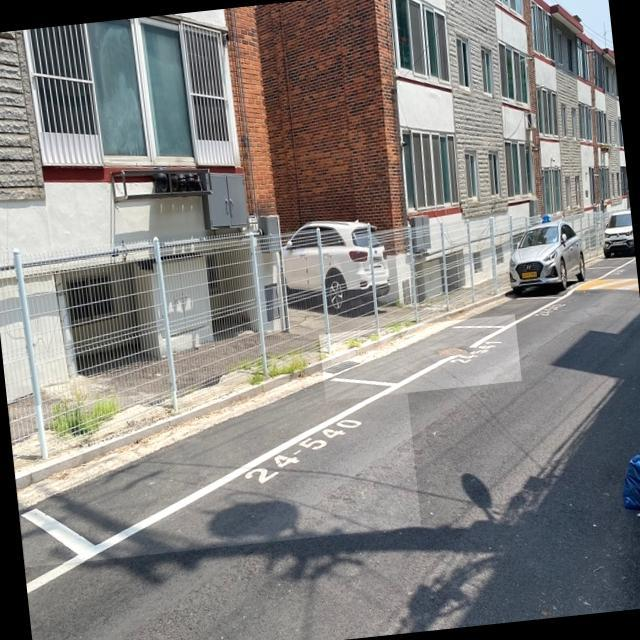empty: (20, 374, 406, 561), (323, 320, 516, 392)
